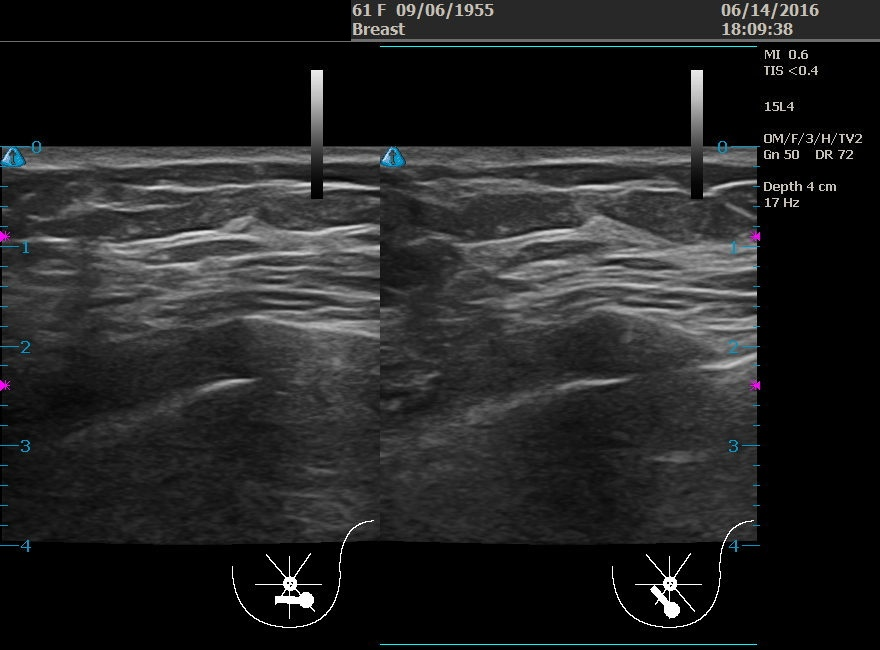BIRADS_2: (472, 148, 672, 348)
BIRADS_3: (107, 152, 308, 352)
